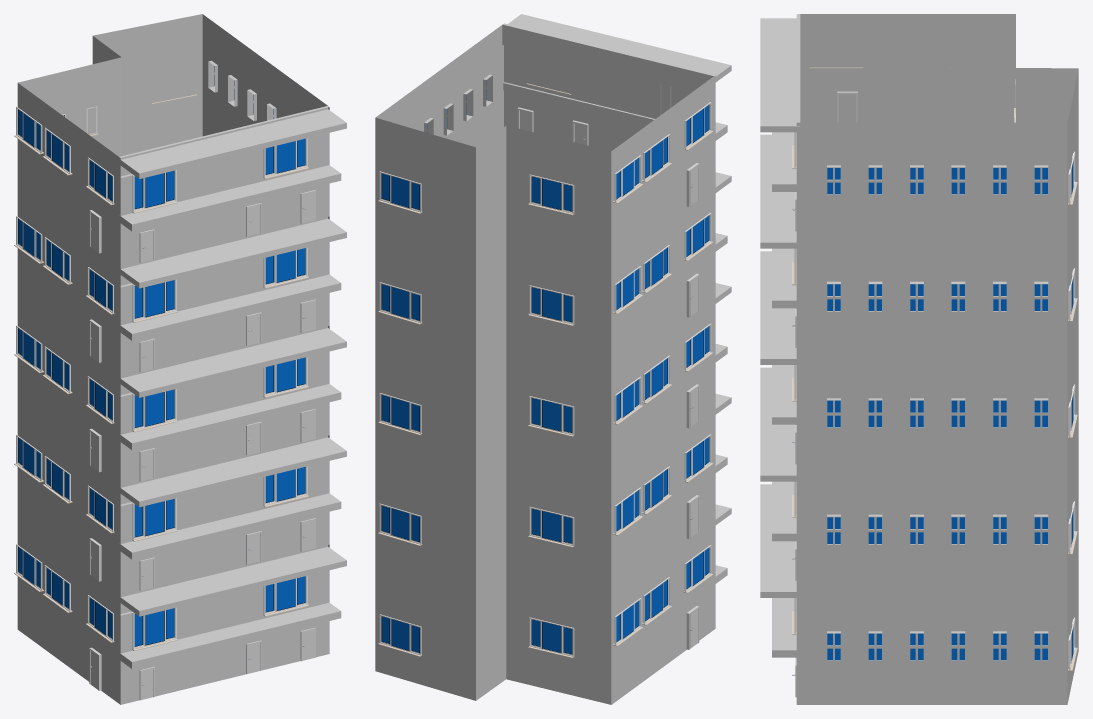
Rendered from solene immeuble03____.fbx.
3 views of the same model, side by side, from view 1: azimuth 30°, elevation 25°; view 2: azimuth 150°, elevation 25°; view 3: azimuth 270°, elevation 25° (orthographic). The views are drawn at different scales.
Parts seen in each view (by area): view 1: Plane.003; view 2: Plane.003; view 3: Plane.003.
Boxes of the visible parts, box(x1,y1,x2,y2) form: Plane.003: box(14, 14, 346, 704); Plane.003: box(375, 14, 731, 704); Plane.003: box(760, 14, 1078, 704).
Size of the model in its own units: 209 by 500 by 248.
